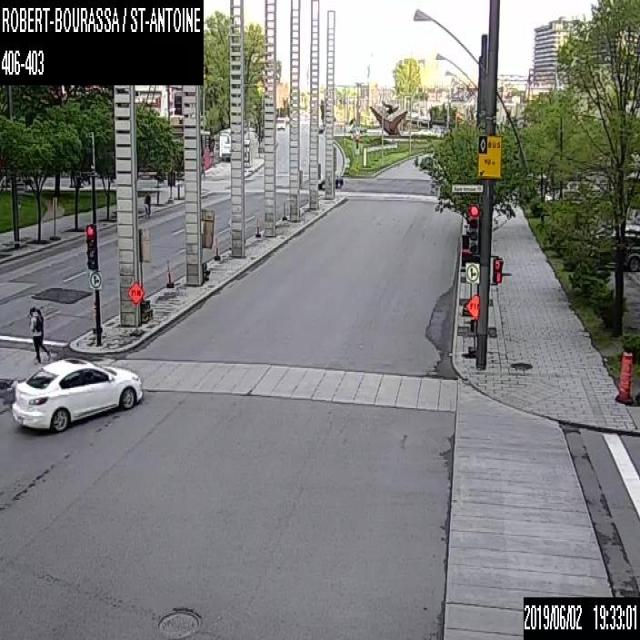construction: (137, 226, 153, 323), (200, 207, 214, 280), (615, 349, 633, 404), (127, 280, 144, 336), (465, 292, 479, 355)
cyclist: (144, 191, 151, 217)
pedestrian: (27, 307, 51, 364)
vehicle: (10, 355, 144, 432), (317, 173, 343, 189), (276, 116, 286, 130)
